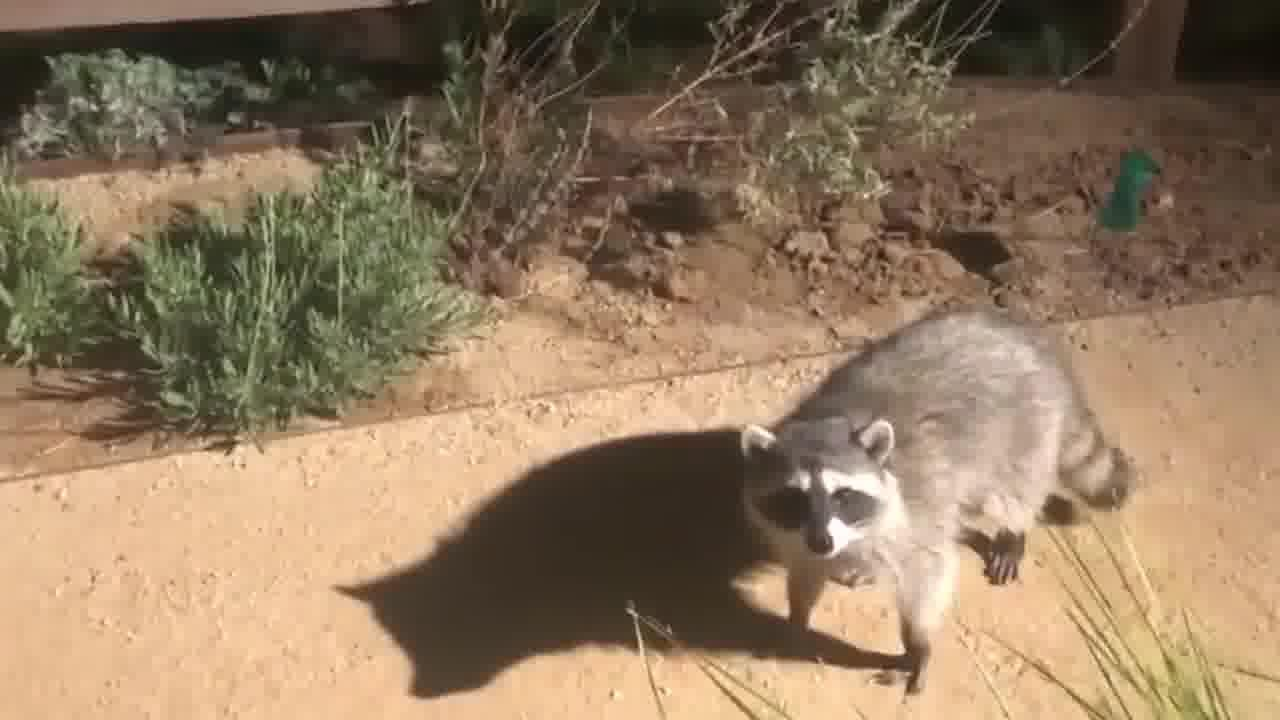raccoon: (731, 299, 1142, 697)
